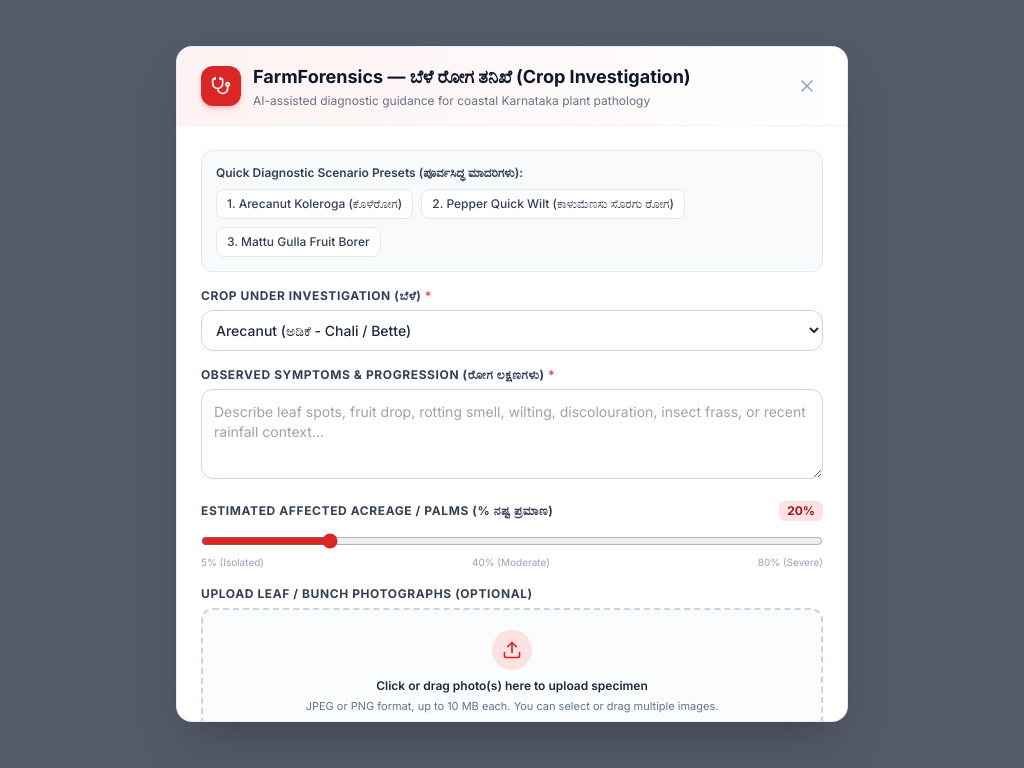
Test case: ForensicsModal Component & Image Upload Suite › populates fields using quick presets without clearing state
Click the button "1. Arecanut Koleroga (ಕೊಳೆರೋಗ)" at (315, 204), box left=216, top=189, right=413, bottom=219
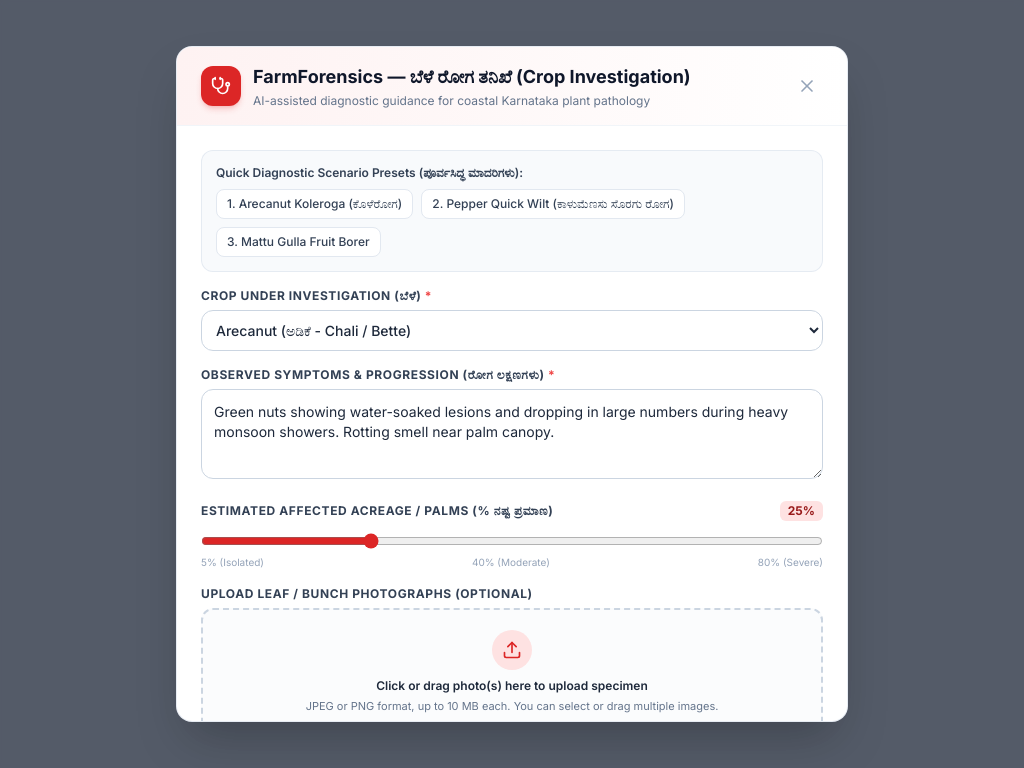
Result: the text "25%" is shown at left=780, top=501, right=823, bottom=521
